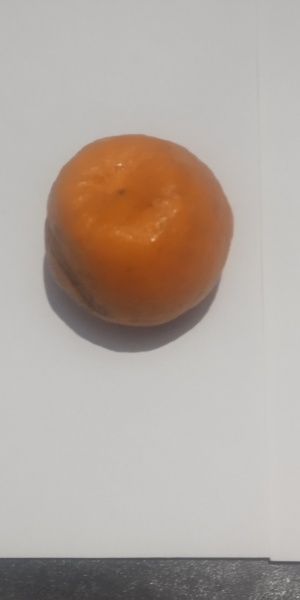BAD: (44, 132, 235, 330)
